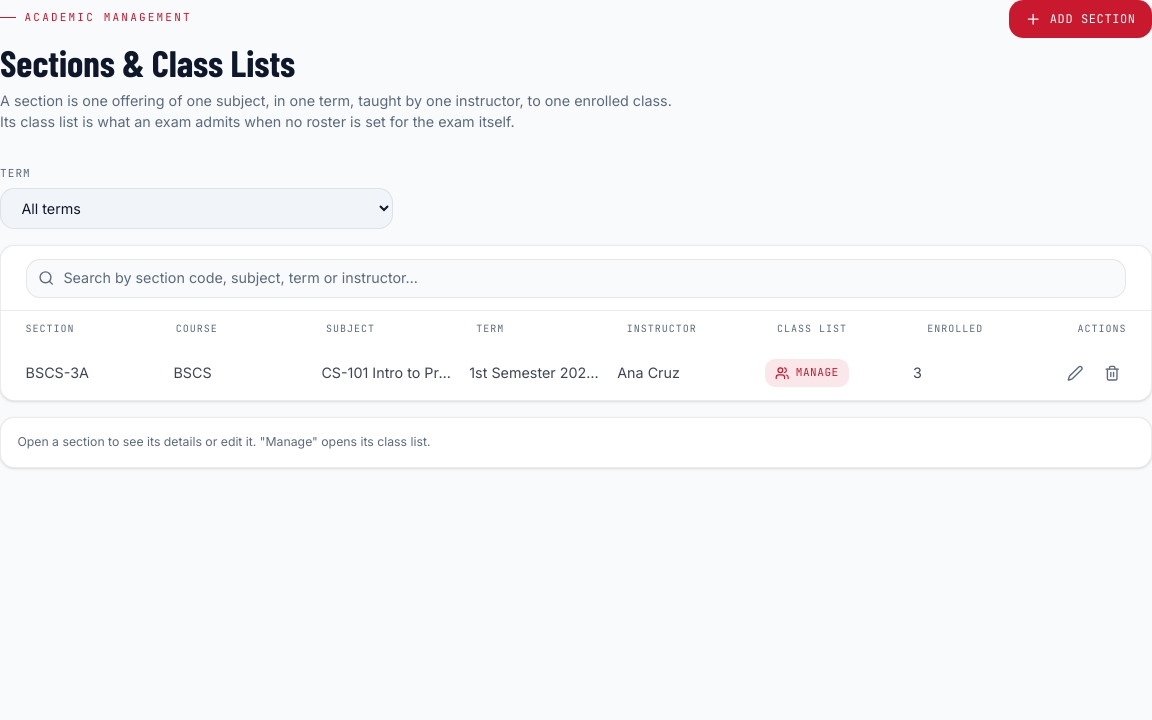
Test: Sections — correcting and removing › shows subject and term as settled facts rather than editable fields
The image size is (1152, 720).
Click the button named "Edit" at [1075, 373], box [1061,359,1090,387]
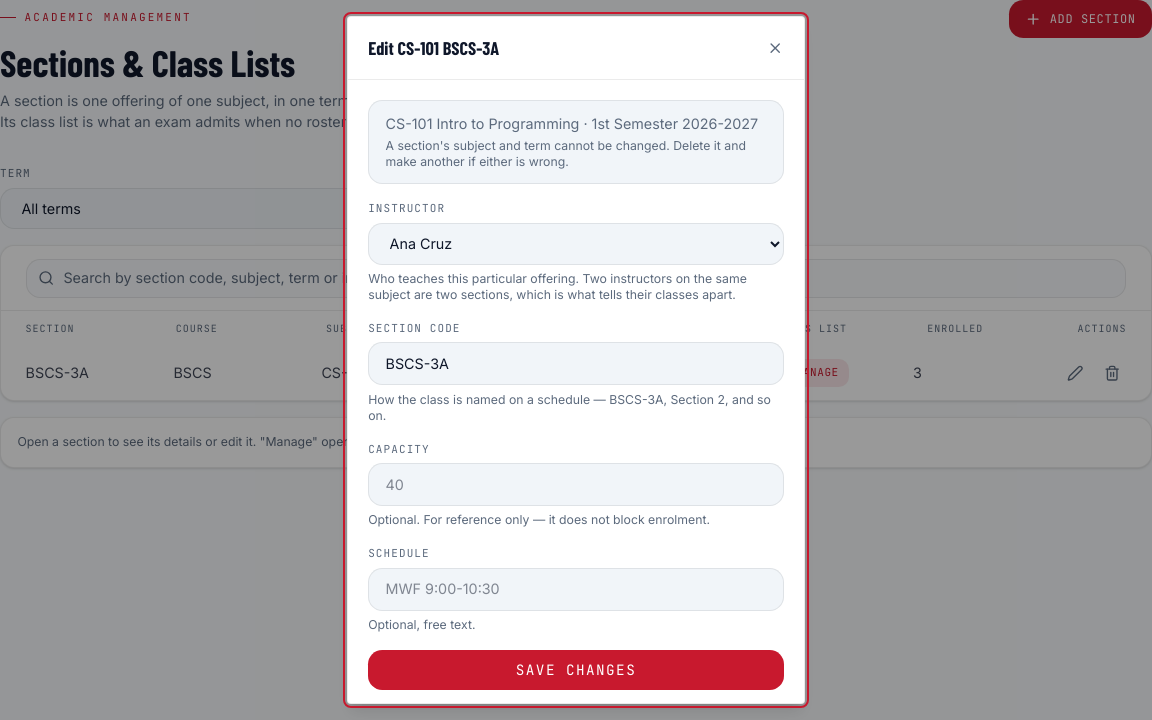
Expected: the text "cannot be changed" is shown, [386,138,746,170]
